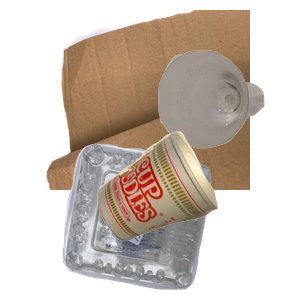cardboard: (43, 10, 283, 190)
glass: (156, 48, 300, 189)
plastic: (60, 141, 263, 300)
trash: (95, 129, 300, 300)
